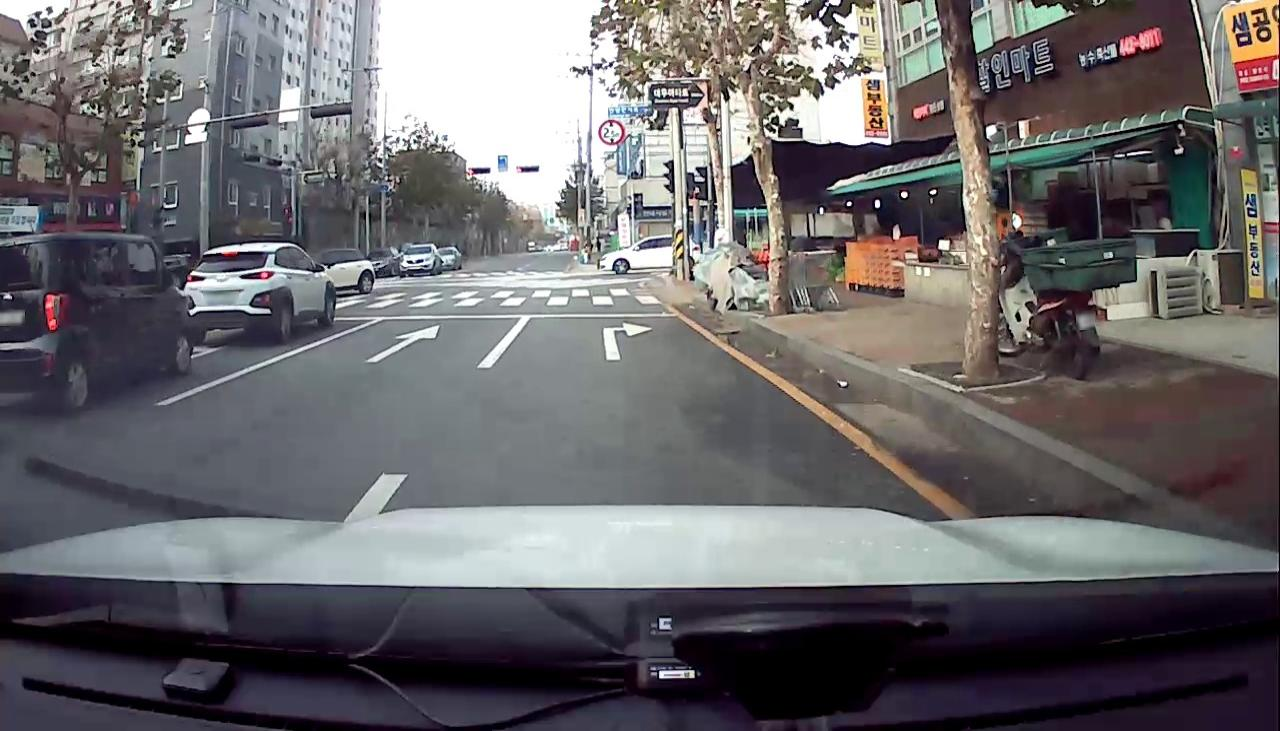Red Light: (466, 167, 474, 176), (515, 165, 523, 174)
